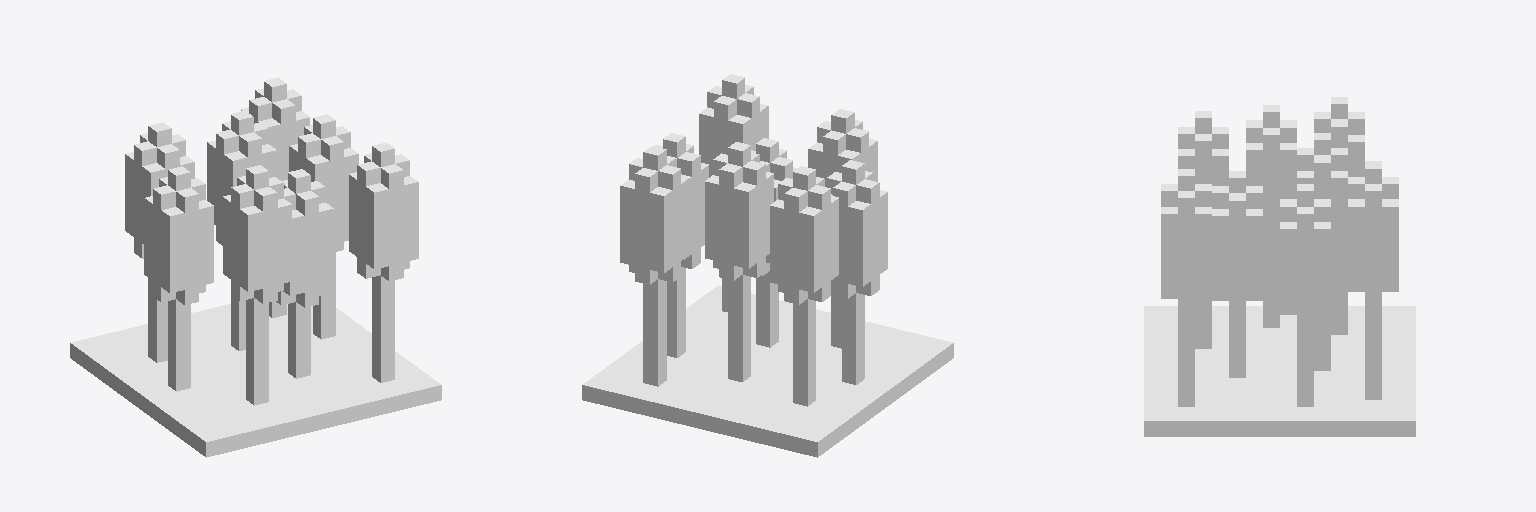
File: Crops-0.obj
3 views of the same model, side by side, from view 1: azimuth 30°, elevation 25°; view 2: azimuth 150°, elevation 25°; view 3: azimuth 270°, elevation 25° (orthographic).
Parts seen in each view (by area): view 1: Crops-0; view 2: Crops-0; view 3: Crops-0.
Part boxes in pixels (bbox=[...]): Crops-0: bbox=[70, 78, 441, 457]; Crops-0: bbox=[582, 74, 953, 457]; Crops-0: bbox=[1144, 97, 1415, 436].
Size of the model in its own units: 16 by 16 by 16.